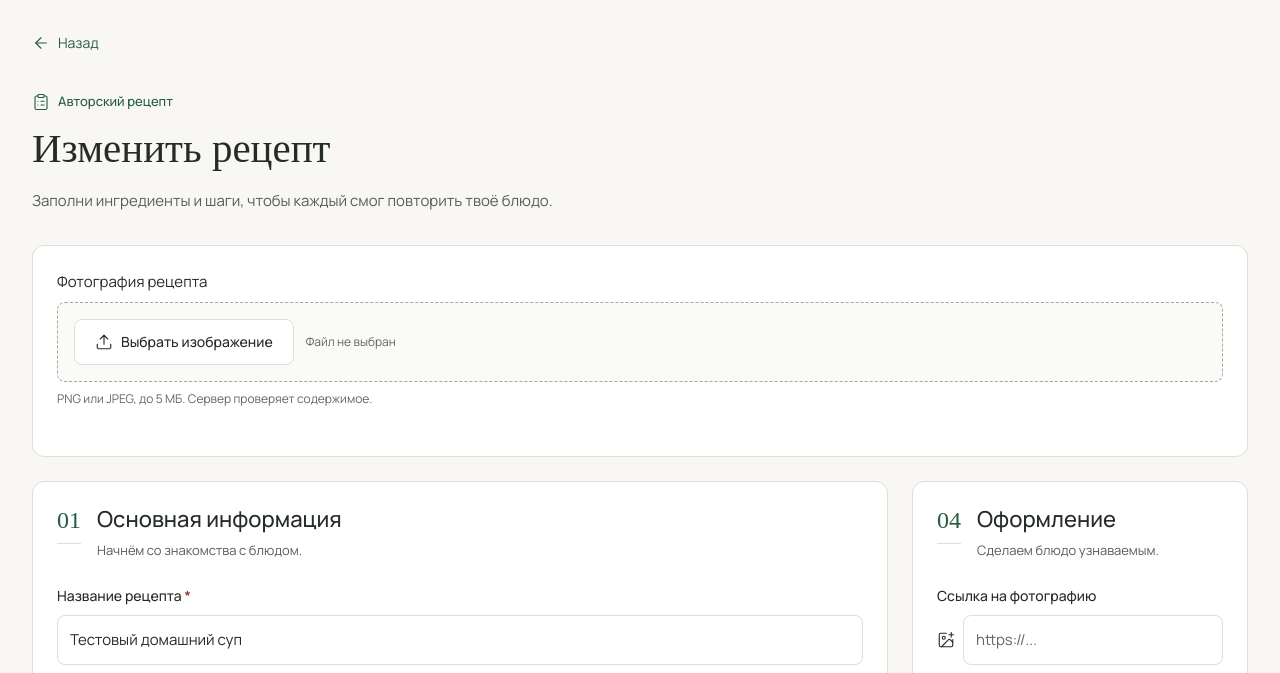
Test case: показывает изменения сервера перед восстановлением и оставляет поля, которые пользователь не менял
Later steps or results of the test are not shown.
Replace the text in the field labelled "Название рецепта *" with "Локальный вариант": (460, 640) [57,615,863,665]
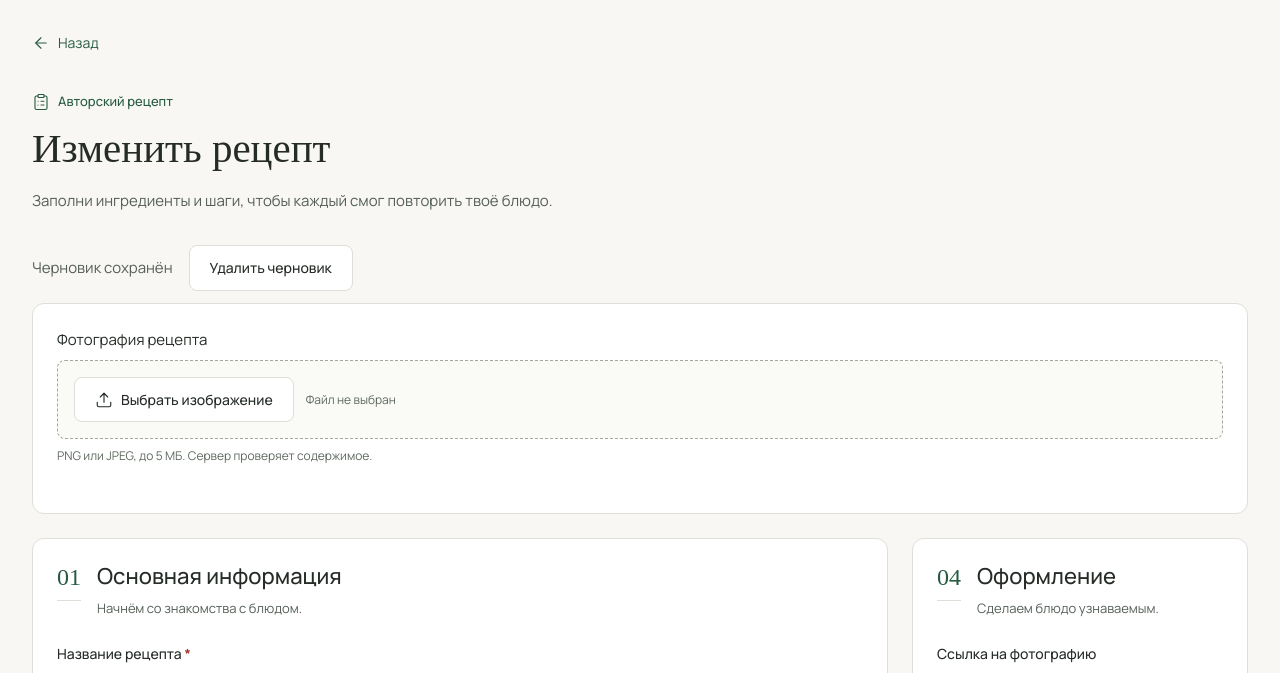
Now the text "Черновик сохранён" is shown, box [32,256,172,280]
